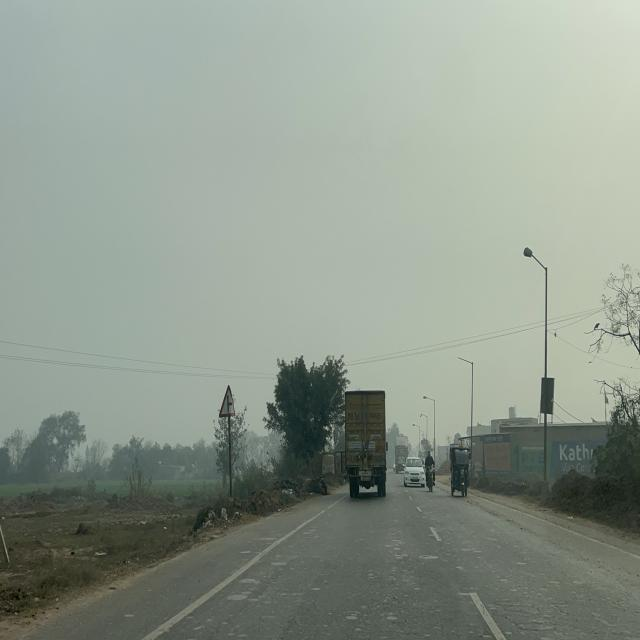SIDE_ROAD_RIGHT: (219, 384, 236, 416)
